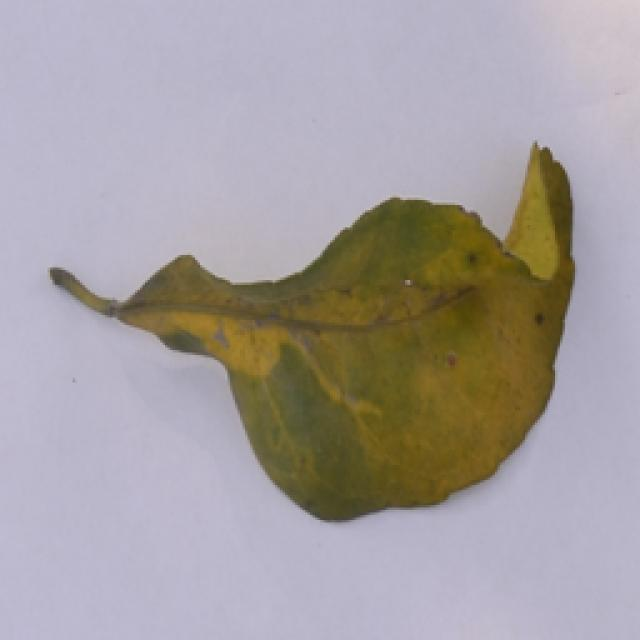greening: (47, 136, 598, 538)
